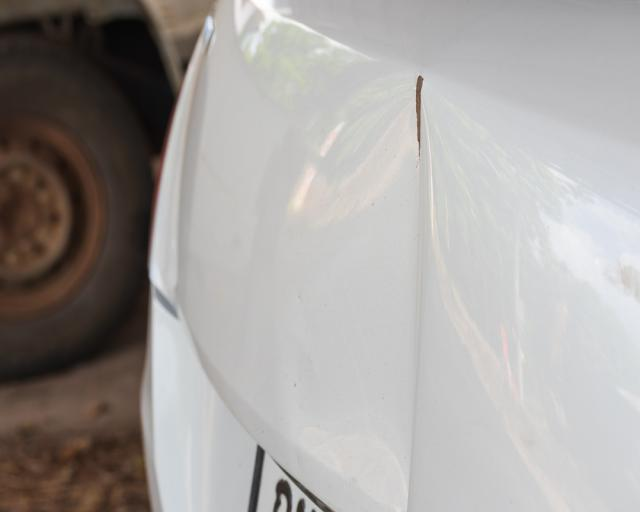dent: (296, 76, 454, 511)
